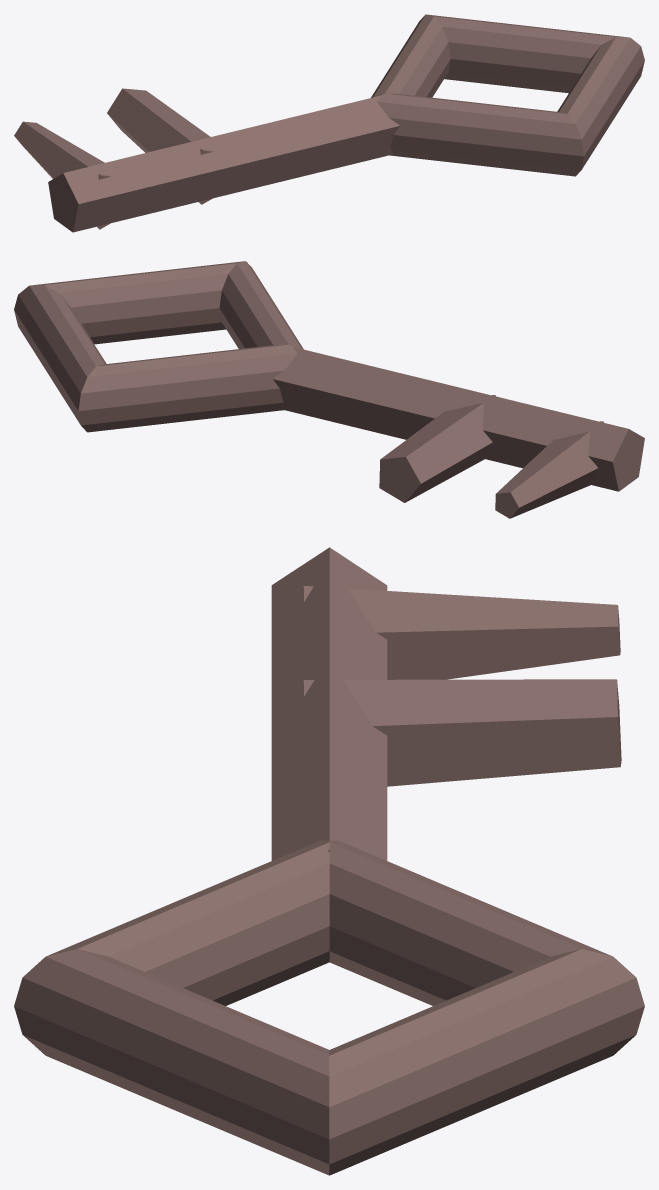
The model's file is KeyForDoor.fbx.
3 views of the same model, one above another, from view 1: azimuth 30°, elevation 25°; view 2: azimuth 150°, elevation 25°; view 3: azimuth 270°, elevation 25° (orthographic). The views are drawn at different scales.
Visible parts, largest first — view 1: Cylinder.002; view 2: Cylinder.002; view 3: Cylinder.002.
Part boxes in pixels (bbox=[...]): Cylinder.002: bbox=[14, 14, 644, 232]; Cylinder.002: bbox=[14, 261, 644, 518]; Cylinder.002: bbox=[14, 547, 644, 1175].
Size of the model in its own units: 73.6 by 7.45 by 36.54.
